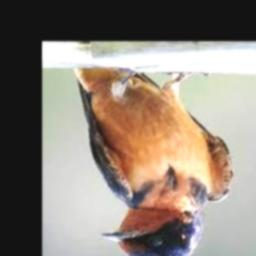Swallow: (74, 68, 234, 256)
